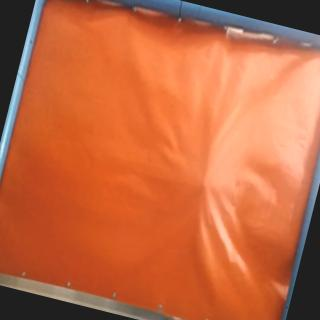Hit-hRxx: (196, 177, 212, 195)
